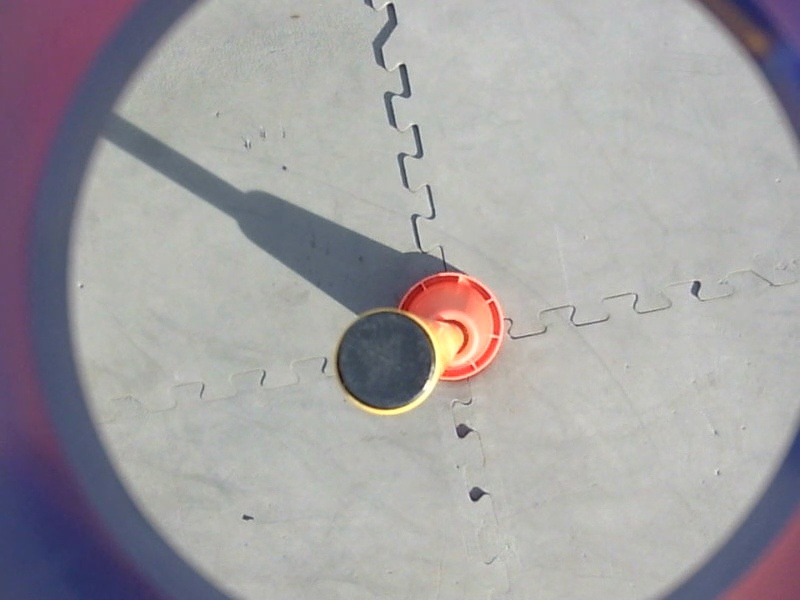tip: (328, 305, 444, 425)
